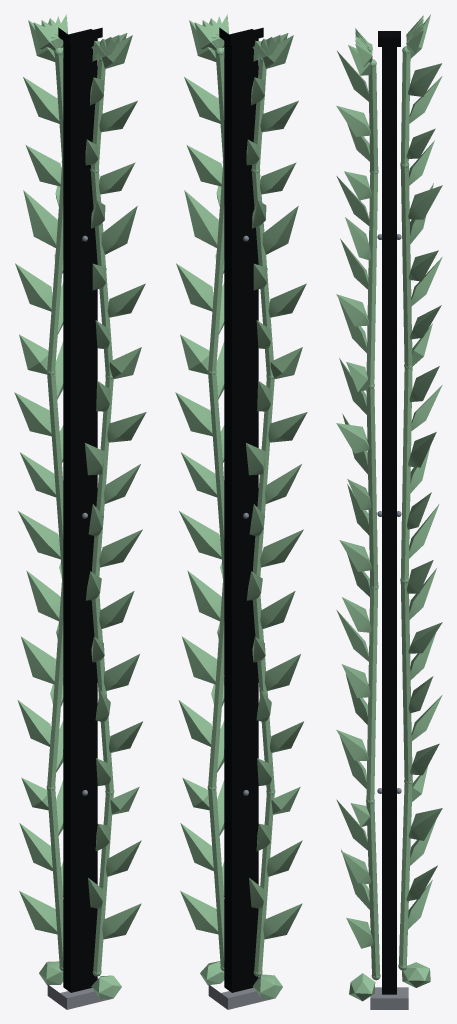
File: tt_cab_dress_vine.glb
The picture shows the model from 3 angles, left to right: view 1: azimuth 30°, elevation 25°; view 2: azimuth 210°, elevation 25°; view 3: azimuth 270°, elevation 25°; orthographic projection.
Parts seen in each view (by area): view 1: Plate, VineLeaves, VineStem, MossTuft, PlateShoe, PlateCap; view 2: Plate, VineLeaves, VineStem, MossTuft, PlateShoe, PlateCap; view 3: VineLeaves, VineStem, Plate, MossTuft, PlateShoe, PlateCap.
Boxes of the visible parts, bbox=[...] form: Plate: bbox=[63, 38, 97, 992]; VineLeaves: bbox=[14, 14, 146, 939]; VineStem: bbox=[46, 48, 114, 976]; MossTuft: bbox=[39, 961, 121, 998]; PlateShoe: bbox=[47, 984, 112, 1009]; PlateCap: bbox=[58, 27, 102, 45]; Plate: bbox=[224, 38, 258, 992]; VineLeaves: bbox=[175, 14, 307, 939]; VineStem: bbox=[207, 48, 275, 976]; MossTuft: bbox=[200, 961, 282, 998]; PlateShoe: bbox=[208, 984, 273, 1009]; PlateCap: bbox=[219, 27, 263, 45]; VineLeaves: bbox=[336, 14, 442, 948]; VineStem: bbox=[366, 46, 412, 980]; Plate: bbox=[382, 47, 396, 994]; MossTuft: bbox=[349, 962, 430, 1001]; PlateShoe: bbox=[370, 987, 408, 1009]; PlateCap: bbox=[378, 31, 400, 46].
Size of what is drawn, in the model's own units: 0.24 by 2.8 by 0.28.
4 materials, 2 textured.
